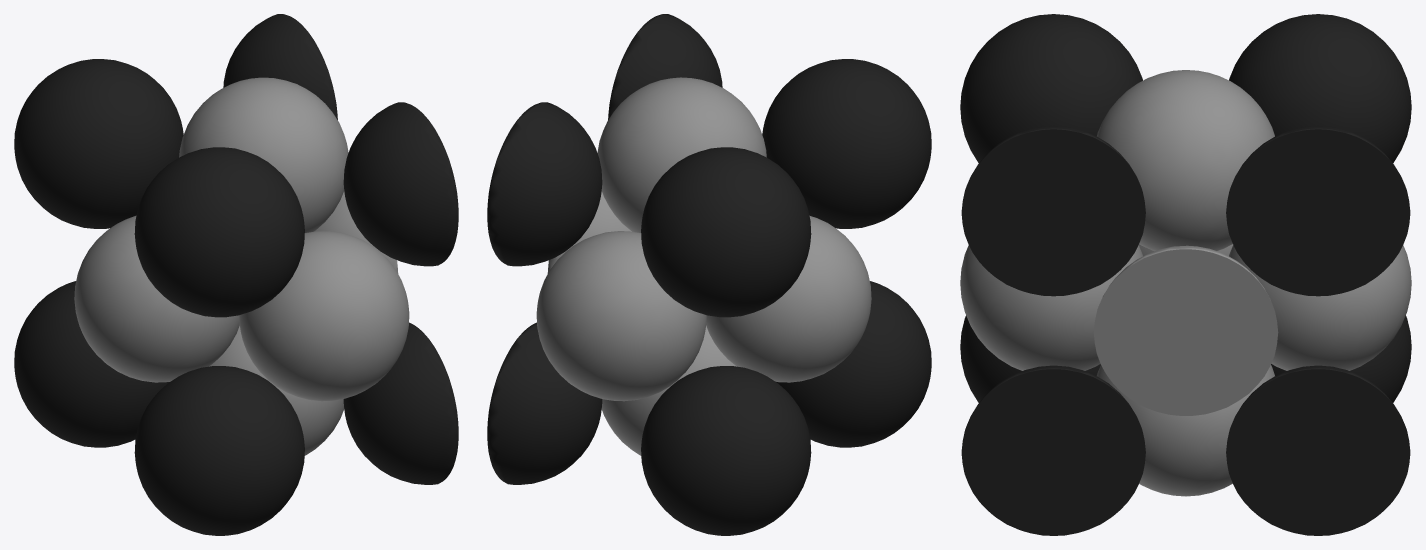
The model's file is solid_state_qn_016.glb.
3 renders of one model, left to right at view 1: azimuth 30°, elevation 25°; view 2: azimuth 150°, elevation 25°; view 3: azimuth 270°, elevation 25°, orthographic. The views are drawn at different scales.
Visible parts, largest first — view 1: Icosphere.055, Icosphere.051, Icosphere.056, Icosphere.063, Icosphere.058, Icosphere.066, Icosphere.064, Icosphere.052, Icosphere.054, Icosphere.057, Icosphere.065, Icosphere.067; view 2: Icosphere.056, Icosphere.052, Icosphere.055, Icosphere.062, Icosphere.057, Icosphere.066, Icosphere.064, Icosphere.051, Icosphere.053, Icosphere.058, Icosphere.065, Icosphere.067; view 3: Icosphere.053, Icosphere.054, Icosphere.057, Icosphere.058, Icosphere.067, Icosphere.064, Icosphere.055, Icosphere.056, Icosphere.063, Icosphere.062, Icosphere.065, Icosphere.051 (+1 smaller).
Boxes of the visible parts, left/top/right/bottom form: Icosphere.055: left=134, top=147, right=304, bottom=317; Icosphere.051: left=134, top=366, right=304, bottom=535; Icosphere.056: left=14, top=59, right=183, bottom=228; Icosphere.063: left=239, top=231, right=409, bottom=401; Icosphere.058: left=343, top=102, right=458, bottom=266; Icosphere.066: left=74, top=215, right=239, bottom=382; Icosphere.064: left=179, top=77, right=348, bottom=232; Icosphere.052: left=14, top=281, right=169, bottom=447; Icosphere.054: left=343, top=322, right=458, bottom=484; Icosphere.057: left=223, top=14, right=337, bottom=119; Icosphere.065: left=209, top=325, right=344, bottom=455; Icosphere.067: left=314, top=191, right=398, bottom=273; Icosphere.056: left=641, top=147, right=811, bottom=317; Icosphere.052: left=641, top=366, right=811, bottom=535; Icosphere.055: left=762, top=59, right=931, bottom=228; Icosphere.062: left=536, top=231, right=706, bottom=401; Icosphere.057: left=487, top=102, right=602, bottom=266; Icosphere.066: left=706, top=215, right=871, bottom=382; Icosphere.064: left=597, top=77, right=766, bottom=232; Icosphere.051: left=776, top=281, right=931, bottom=447; Icosphere.053: left=487, top=322, right=602, bottom=484; Icosphere.058: left=608, top=14, right=722, bottom=119; Icosphere.065: left=601, top=326, right=736, bottom=455; Icosphere.067: left=547, top=191, right=631, bottom=273; Icosphere.053: left=1226, top=365, right=1410, bottom=535; Icosphere.054: left=961, top=365, right=1145, bottom=535; Icosphere.057: left=1226, top=125, right=1410, bottom=296; Icosphere.058: left=961, top=125, right=1145, bottom=296; Icosphere.067: left=1093, top=245, right=1278, bottom=415; Icosphere.064: left=1097, top=70, right=1274, bottom=251; Icosphere.055: left=960, top=14, right=1142, bottom=162; Icosphere.056: left=1229, top=14, right=1411, bottom=162; Icosphere.063: left=960, top=245, right=1142, bottom=370; Icosphere.062: left=1229, top=245, right=1411, bottom=370; Icosphere.065: left=1097, top=365, right=1274, bottom=496; Icosphere.051: left=960, top=315, right=1100, bottom=402.
Bounding box in the file's own units: 3.67 × 4.83 × 4.83.
Materials: 1 (1 with a texture image).
